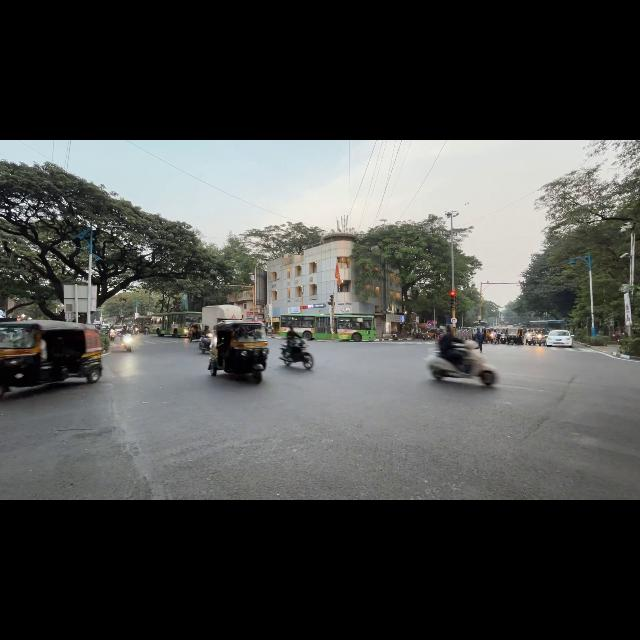bus: (280, 314, 331, 339), (150, 312, 201, 336), (528, 320, 566, 333), (134, 316, 151, 331)
car: (546, 330, 572, 347)
motorcycle: (427, 341, 497, 385), (279, 339, 313, 369), (199, 333, 212, 353), (121, 334, 132, 352), (525, 333, 534, 345), (499, 334, 507, 344), (109, 329, 116, 340), (414, 333, 426, 339), (391, 333, 398, 340), (144, 328, 148, 335)
truck: (202, 305, 242, 329)
